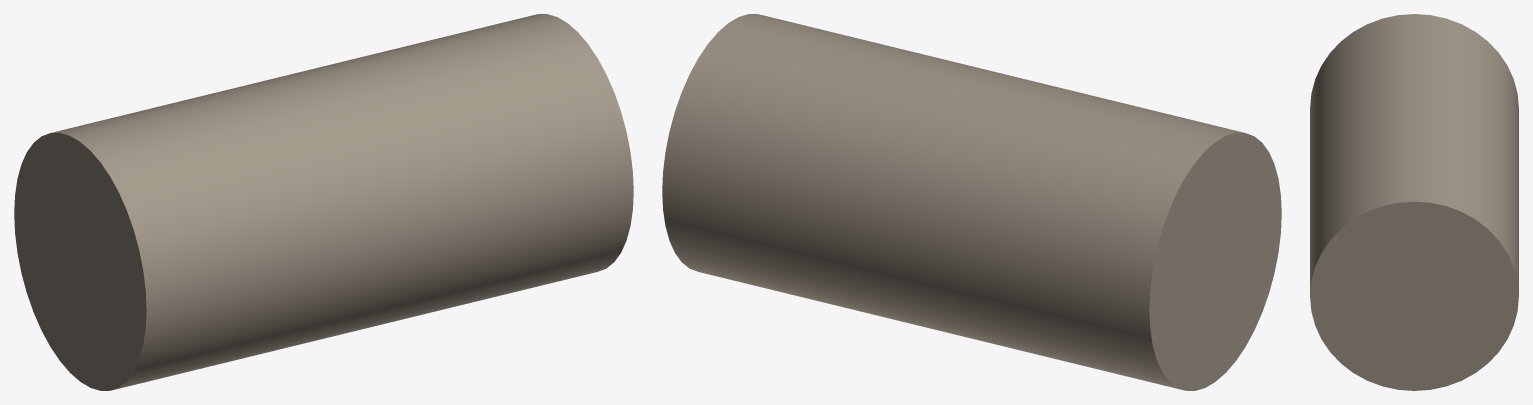
Rendered from Corridor_Signal.fbx.
3 views of the same model, side by side, from view 1: azimuth 30°, elevation 25°; view 2: azimuth 150°, elevation 25°; view 3: azimuth 270°, elevation 25° (orthographic). The views are drawn at different scales.
Visible parts, largest first — view 1: Corridor_Signal; view 2: Corridor_Signal; view 3: Corridor_Signal.
Boxes of the visible parts, box(x1,y1,x2,y2) form: Corridor_Signal: box(14, 14, 633, 390); Corridor_Signal: box(662, 14, 1281, 390); Corridor_Signal: box(1310, 14, 1518, 390).
Size of the model in its own units: 0.17 by 0.08 by 0.08.
